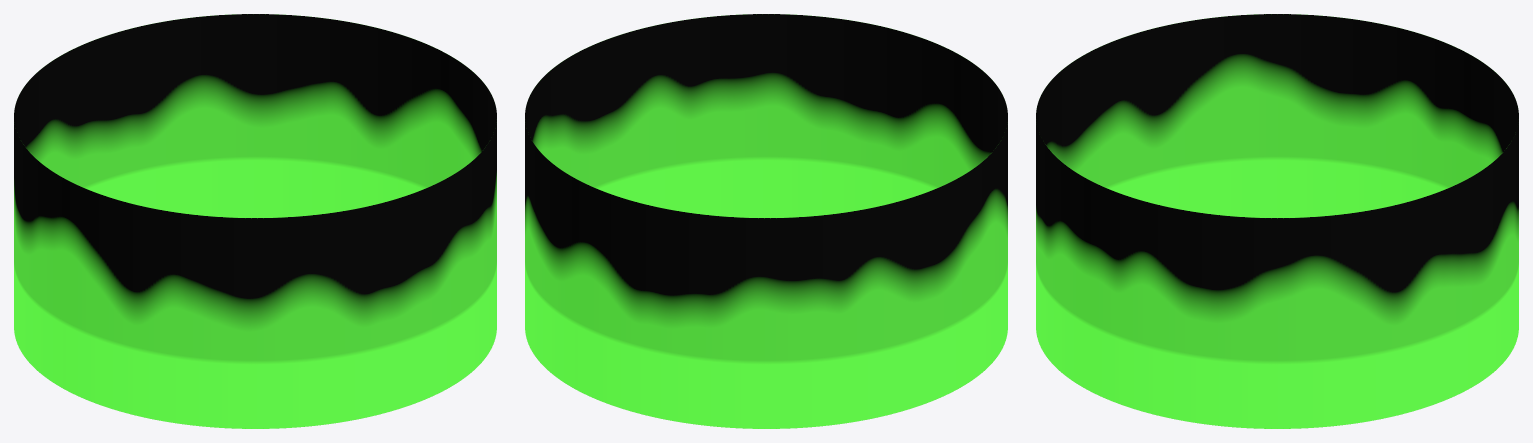
File: teleport_indicator.fbx
3 views of the same model, side by side, from view 1: azimuth 30°, elevation 25°; view 2: azimuth 150°, elevation 25°; view 3: azimuth 270°, elevation 25° (orthographic).
Parts seen in each view (by area): view 1: TeleportIndicator; view 2: TeleportIndicator; view 3: TeleportIndicator.
Boxes of the visible parts, left/top/right/bottom form: TeleportIndicator: left=14, top=14, right=496, bottom=428; TeleportIndicator: left=525, top=14, right=1007, bottom=428; TeleportIndicator: left=1036, top=14, right=1518, bottom=428.
Size of the model in its own units: 80 by 38.55 by 80.
